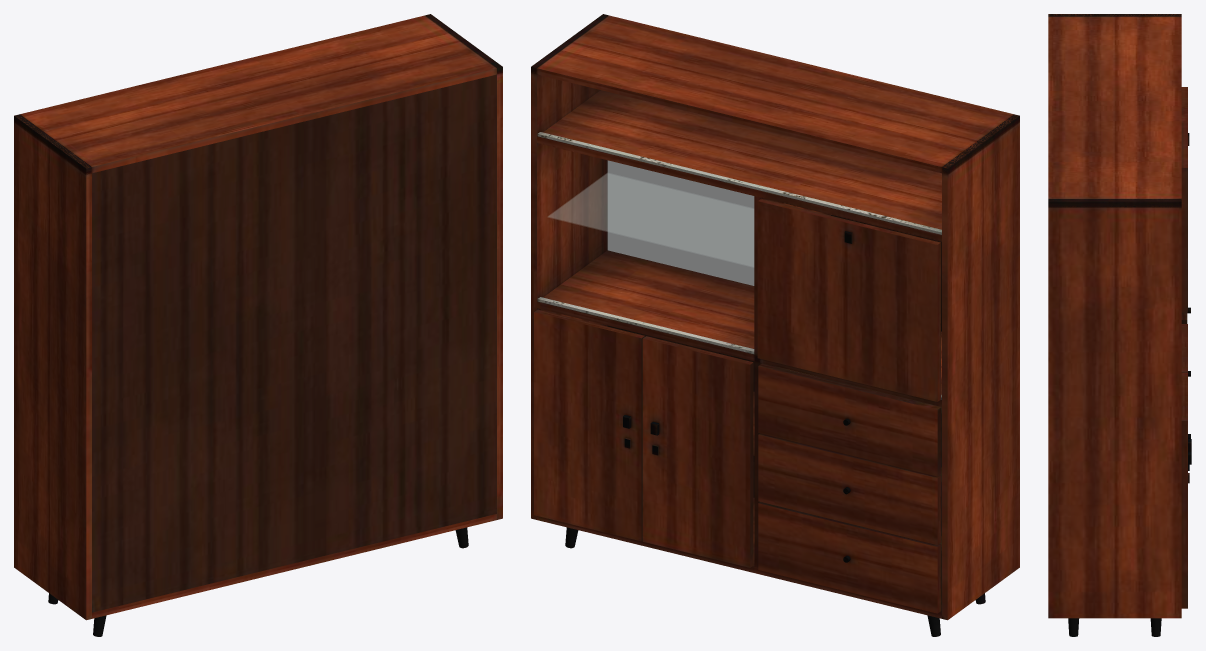
The model's file is sideboard_bar_web.glb.
3 renders of one model, left to right at view 1: azimuth 30°, elevation 25°; view 2: azimuth 150°, elevation 25°; view 3: azimuth 270°, elevation 25°, orthographic. The views are drawn at different scales.
Parts seen in each view (by area): view 1: SideboardBar_Body; view 2: SideboardBar_Body, Door_Bar_Mesh, Door_R_Mesh, Door_L_Mesh, Mirror_Back, Drawer_1_Mesh, Drawer_2_Mesh, Drawer_3_Mesh, Glass_Shelf; view 3: SideboardBar_Body, Door_L_Mesh, Door_Bar_Mesh, Door_R_Mesh.
Boxes of the visible parts, x1,y1,x2,y2 form: SideboardBar_Body: [14, 14, 502, 636]; SideboardBar_Body: [531, 14, 1019, 636]; Door_Bar_Mesh: [757, 198, 940, 401]; Door_R_Mesh: [642, 336, 753, 567]; Door_L_Mesh: [534, 309, 644, 541]; Mirror_Back: [607, 160, 754, 285]; Drawer_1_Mesh: [758, 363, 941, 476]; Drawer_2_Mesh: [758, 433, 941, 544]; Drawer_3_Mesh: [758, 502, 941, 613]; Glass_Shelf: [548, 173, 753, 267]; SideboardBar_Body: [1048, 14, 1181, 636]; Door_L_Mesh: [1181, 372, 1191, 608]; Door_Bar_Mesh: [1181, 87, 1189, 312]; Door_R_Mesh: [1181, 324, 1191, 470].
Bounding box in the file's own units: 1.4 × 1.55 × 0.452.
Materials: 3 (1 with a texture image).
